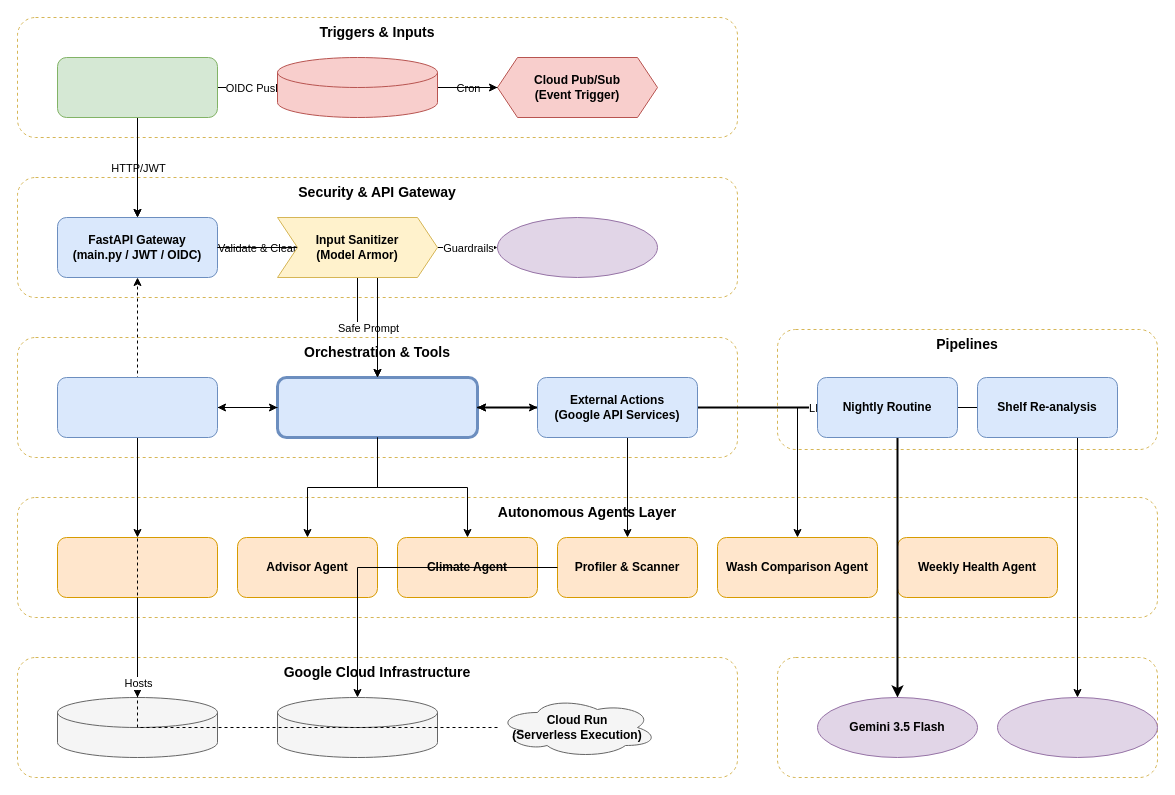
The diagram is 1175 pixels wide and 795 high, and some of its shapes have lost their labels. Here are the shapes that lost their labels. From the top down, the box of each, then its label:
(56, 56, 218, 118): Web Client / User App
(276, 56, 438, 118): Cloud Scheduler (Nightly Routine)
(496, 216, 658, 278): Gemma Model (Prompt Injection Check)
(56, 376, 218, 438): Tool Registry (tool_registry.py)
(276, 376, 478, 438): True ReAct Orchestrator (orchestrator.py)
(56, 536, 218, 598): Chemist Agent (Deterministic + Gen)
(56, 696, 218, 758): Firestore (State & Memory)
(276, 696, 438, 758): Cloud Storage (Photos & Scans)
(776, 656, 1158, 778): External APIs & Models
(996, 696, 1158, 758): Google Calendar API
